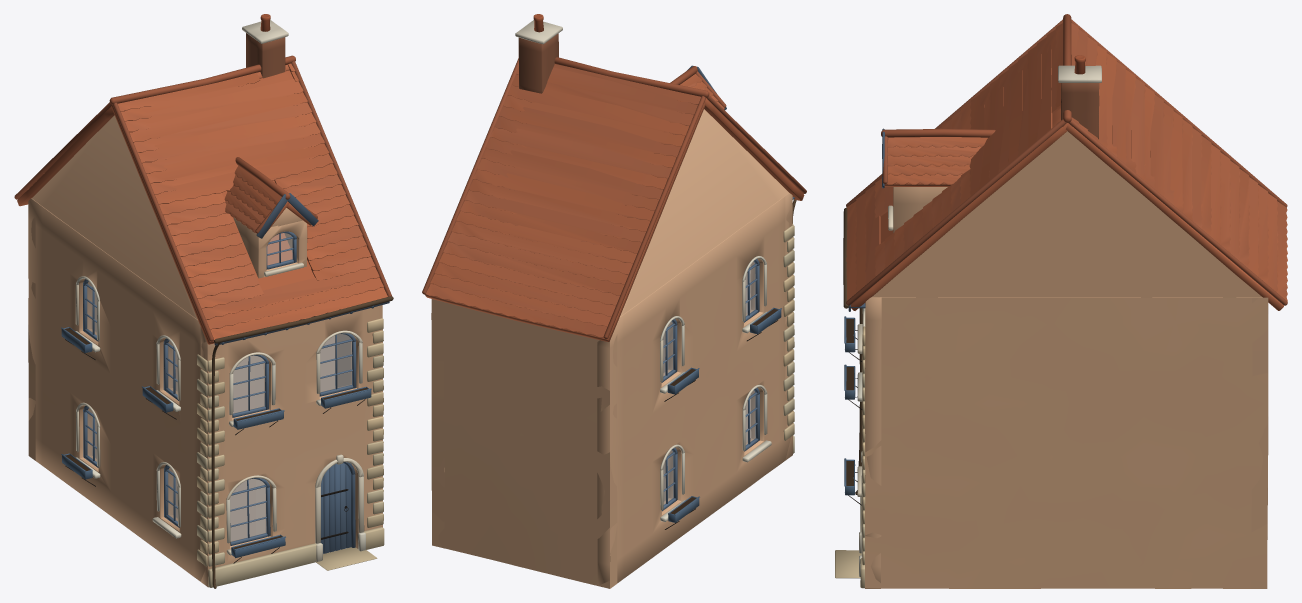
The model's file is GateStreet_BehindOuter5.glb.
The picture shows the model from 3 angles, left to right: view 1: azimuth 30°, elevation 25°; view 2: azimuth 150°, elevation 25°; view 3: azimuth 270°, elevation 25°; orthographic projection. The views are drawn at different scales.
Parts seen in each view (by area): view 1: Sammel Putz, Sammel Stein, Sammel Lack, Glas, Sammel Putz innen, Sammel Metall, Sammel Ziegel; view 2: Sammel Putz, Sammel Stein, Sammel Lack, Sammel Ziegel, Glas, Sammel Putz innen; view 3: Sammel Putz, Sammel Stein, Sammel Ziegel, Sammel Lack, Sammel Metall.
Part boxes in pixels (x1,y1,x2,y2): Sammel Putz: (28, 14, 382, 587); Sammel Stein: (14, 55, 391, 587); Sammel Lack: (61, 193, 389, 558); Glas: (87, 233, 351, 541); Sammel Putz innen: (91, 286, 351, 540); Sammel Metall: (65, 296, 393, 588); Sammel Ziegel: (246, 33, 285, 78); Sammel Putz: (431, 14, 792, 588); Sammel Stein: (422, 57, 806, 453); Sammel Lack: (661, 65, 794, 522); Sammel Ziegel: (518, 33, 558, 93); Glas: (663, 261, 755, 504); Sammel Putz innen: (663, 265, 751, 501); Sammel Putz: (846, 55, 1268, 588); Sammel Stein: (835, 14, 1287, 588); Sammel Ziegel: (1061, 83, 1099, 139); Sammel Lack: (844, 128, 884, 495); Sammel Metall: (843, 207, 862, 505).
Bounding box in the file's own units: 4.99 × 11.41 × 9.
